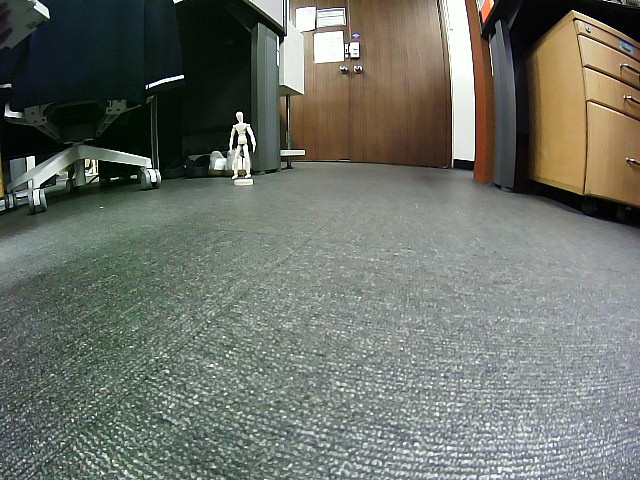person: (228, 112, 256, 180)
